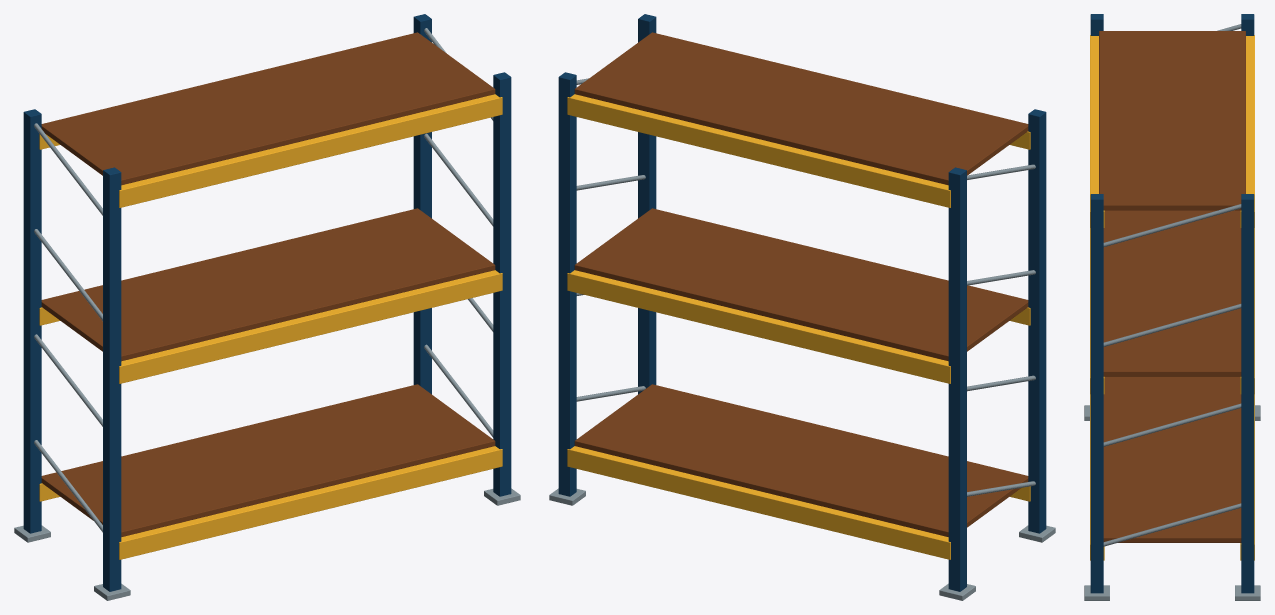
The picture shows the model from 3 angles, left to right: view 1: azimuth 30°, elevation 25°; view 2: azimuth 150°, elevation 25°; view 3: azimuth 270°, elevation 25°; orthographic projection. The views are drawn at different scales.
Visible parts, largest first — view 1: SHELF_Deck.002, SHELF_Deck.001, SHELF_Deck, BEAM.005, BEAM.001, BEAM.003, UPRIGHT, UPRIGHT.001, UPRIGHT.002, UPRIGHT.003; view 2: SHELF_Deck.002, SHELF_Deck.001, SHELF_Deck, BEAM, BEAM.002, BEAM.004, UPRIGHT.001, UPRIGHT, UPRIGHT.003, UPRIGHT.002; view 3: SHELF_Deck.002, SHELF_Deck.001, SHELF_Deck, UPRIGHT.002, UPRIGHT.003, BEAM.005, BEAM, BRACE.005, BRACE.006, BRACE, BRACE.007, FOOT.002 (+3 smaller).
Boxes of the visible parts, x1=… form: SHELF_Deck.002: x1=41, y1=32, x2=495, y2=185; SHELF_Deck.001: x1=41, y1=208, x2=495, y2=361; SHELF_Deck: x1=41, y1=384, x2=495, y2=536; BEAM.005: x1=119, y1=94, x2=502, y2=207; BEAM.001: x1=119, y1=446, x2=502, y2=559; BEAM.003: x1=119, y1=270, x2=502, y2=383; UPRIGHT: x1=103, y1=167, x2=121, y2=591; UPRIGHT.001: x1=23, y1=109, x2=41, y2=533; UPRIGHT.002: x1=493, y1=72, x2=511, y2=496; UPRIGHT.003: x1=413, y1=14, x2=431, y2=394; SHELF_Deck.002: x1=574, y1=32, x2=1028, y2=185; SHELF_Deck.001: x1=574, y1=208, x2=1028, y2=361; SHELF_Deck: x1=574, y1=384, x2=1028, y2=536; BEAM: x1=567, y1=94, x2=950, y2=207; BEAM.002: x1=567, y1=446, x2=950, y2=559; BEAM.004: x1=567, y1=270, x2=950, y2=383; UPRIGHT.001: x1=948, y1=167, x2=966, y2=591; UPRIGHT: x1=1028, y1=109, x2=1046, y2=533; UPRIGHT.003: x1=558, y1=72, x2=576, y2=496; UPRIGHT.002: x1=638, y1=14, x2=656, y2=394; SHELF_Deck.002: x1=1099, y1=31, x2=1245, y2=210; SHELF_Deck.001: x1=1103, y1=210, x2=1241, y2=376; SHELF_Deck: x1=1103, y1=376, x2=1241, y2=542; UPRIGHT.002: x1=1090, y1=194, x2=1103, y2=593; UPRIGHT.003: x1=1241, y1=194, x2=1254, y2=593; BEAM.005: x1=1090, y1=35, x2=1104, y2=227; BEAM: x1=1240, y1=35, x2=1254, y2=227; BRACE.005: x1=1103, y1=503, x2=1241, y2=546; BRACE.006: x1=1103, y1=403, x2=1241, y2=446; BRACE: x1=1103, y1=204, x2=1241, y2=247; BRACE.007: x1=1103, y1=304, x2=1241, y2=346; FOOT.002: x1=1084, y1=585, x2=1109, y2=600.
Size of the model in its own units: 2.46 by 2.4 by 0.96.
